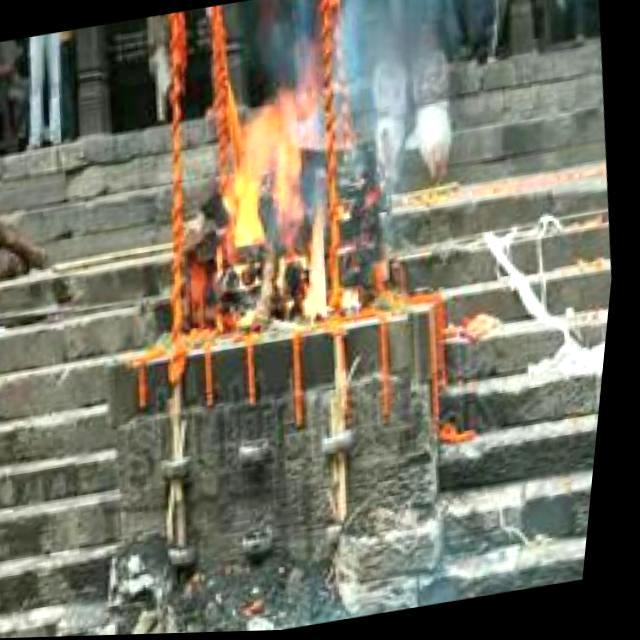fire: (202, 70, 364, 340)
